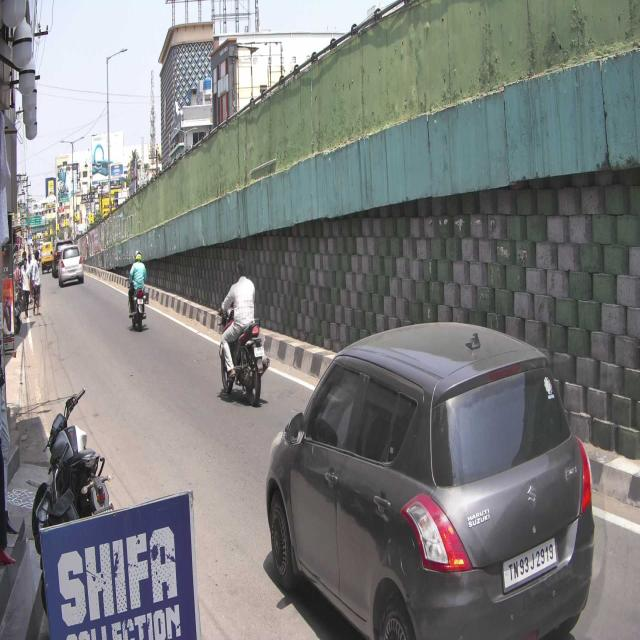single_rider: (217, 258, 271, 405)
